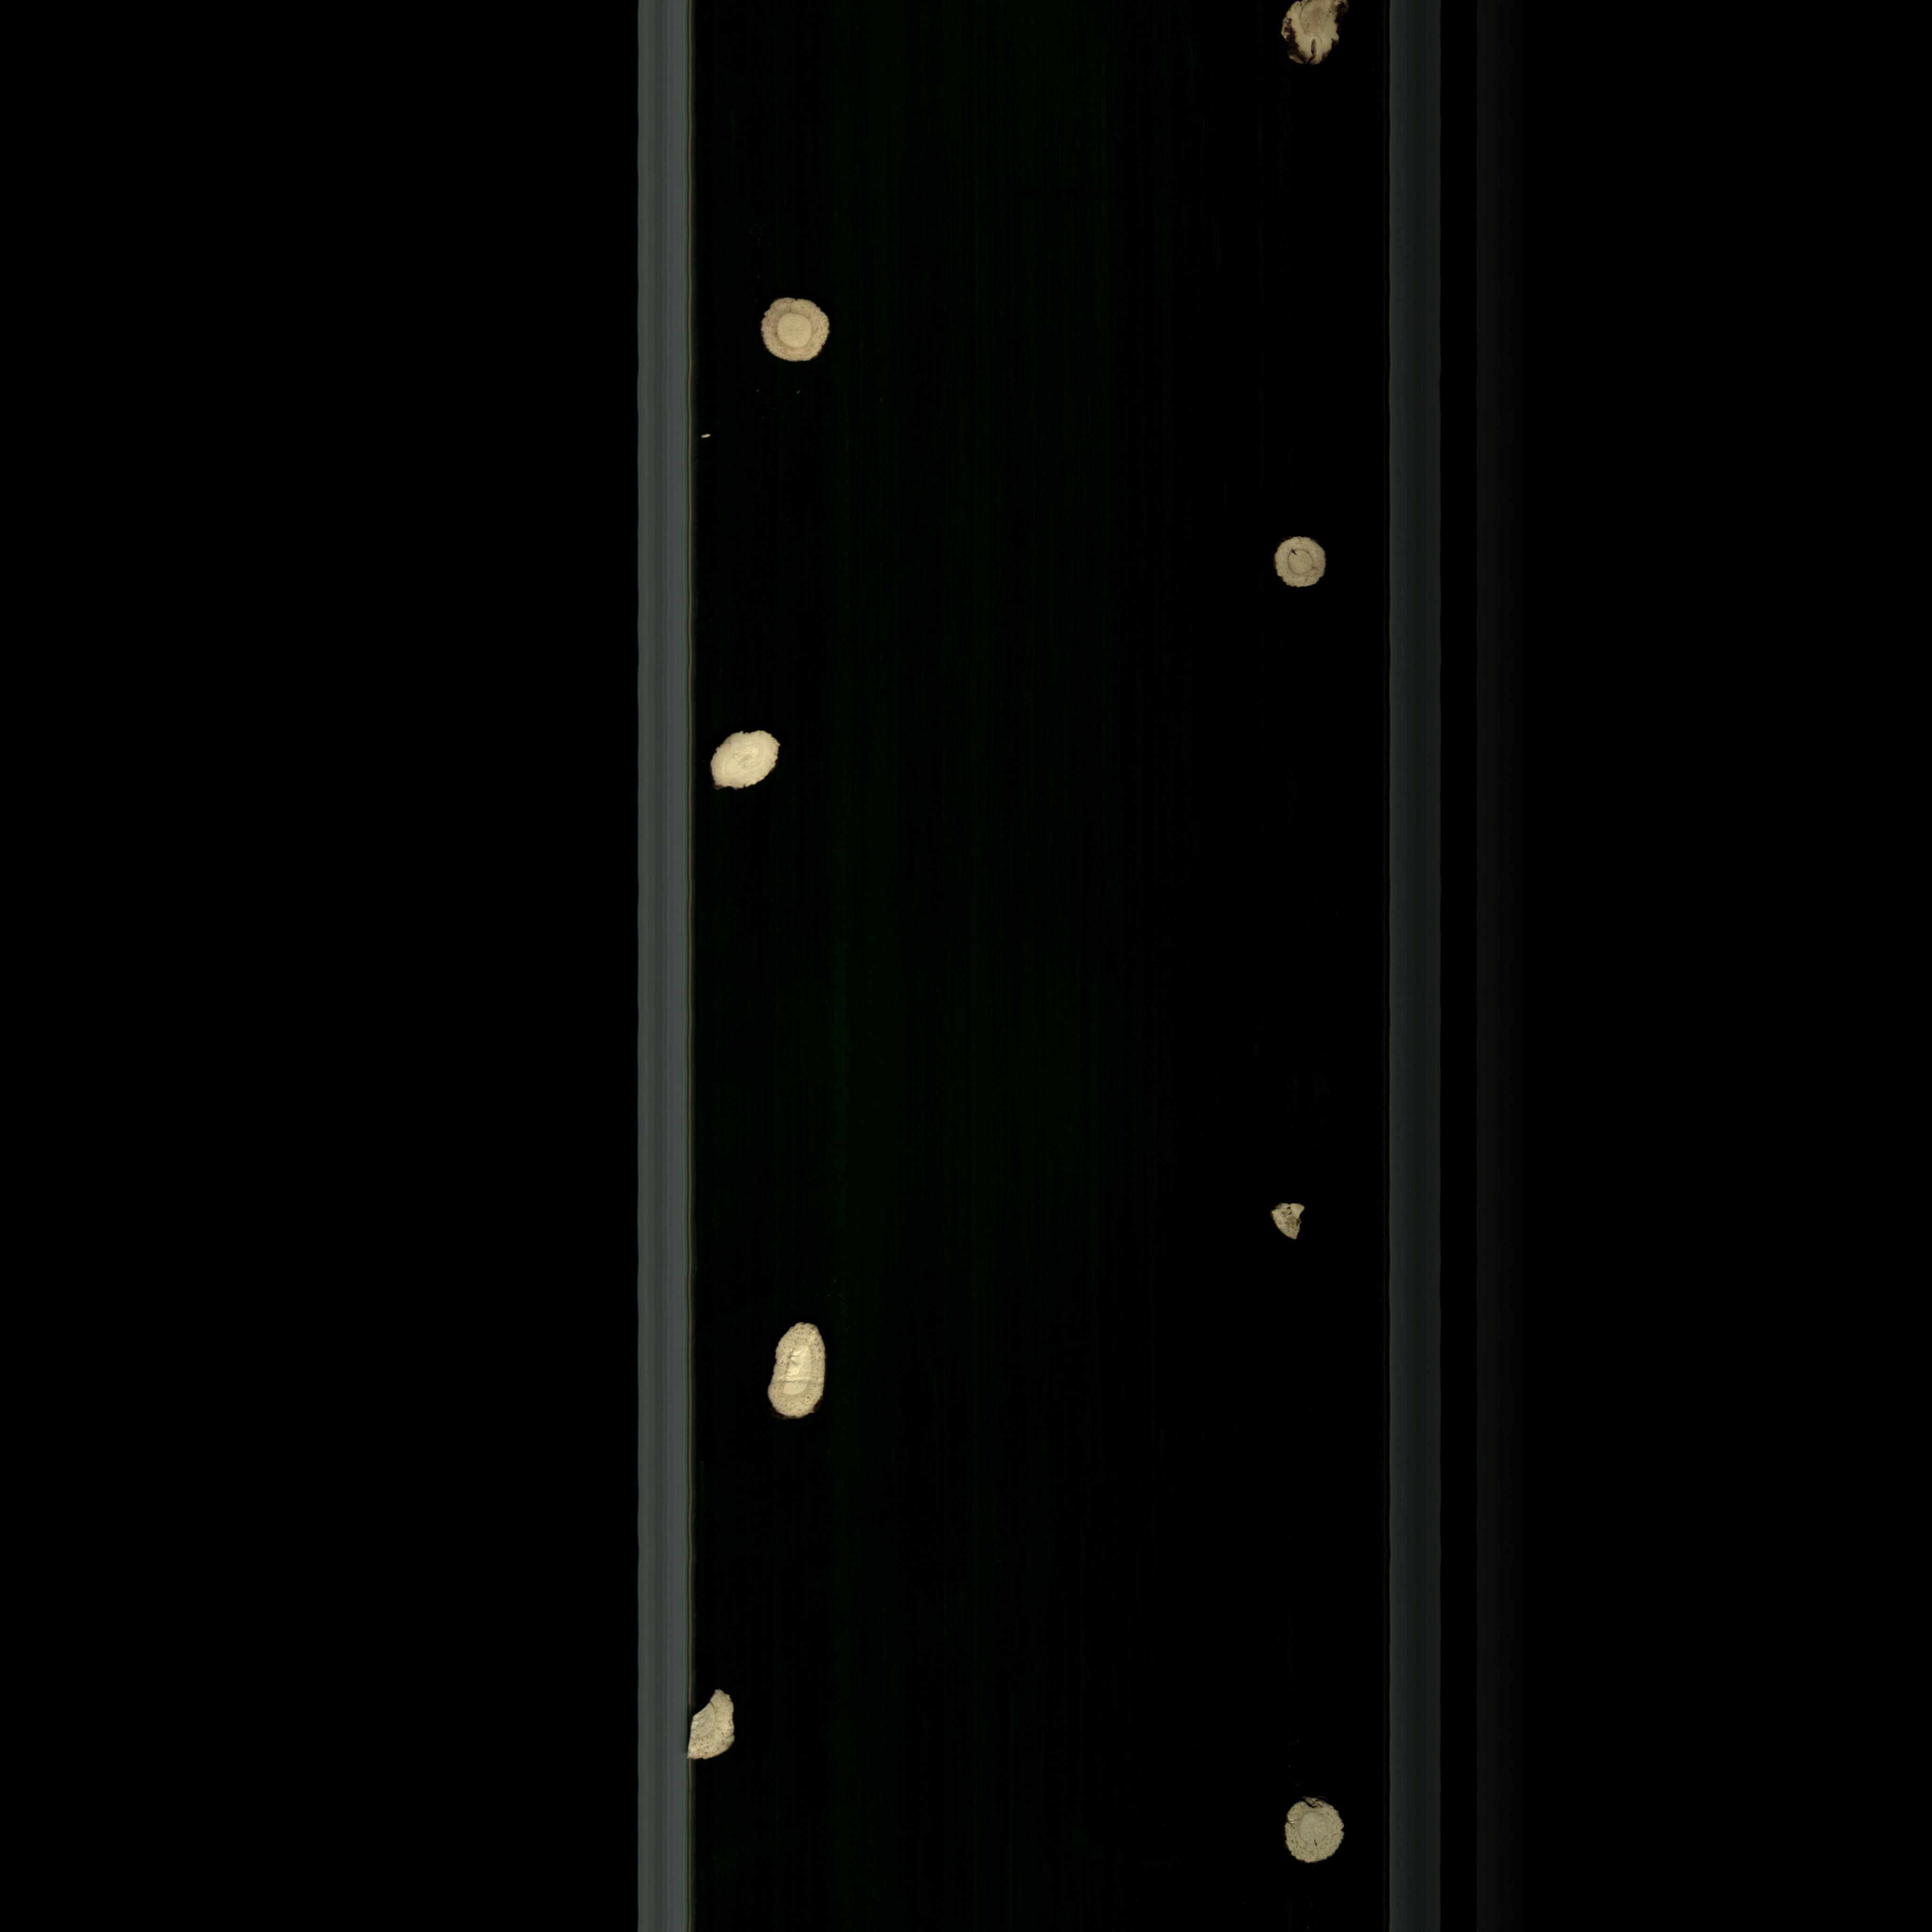bark: (1263, 0, 1350, 76)
debris: (706, 724, 798, 801), (686, 1686, 748, 1778)
distortion: (766, 1311, 830, 1430)
hole: (1267, 529, 1330, 600)
moldy: (1258, 1200, 1322, 1247)
